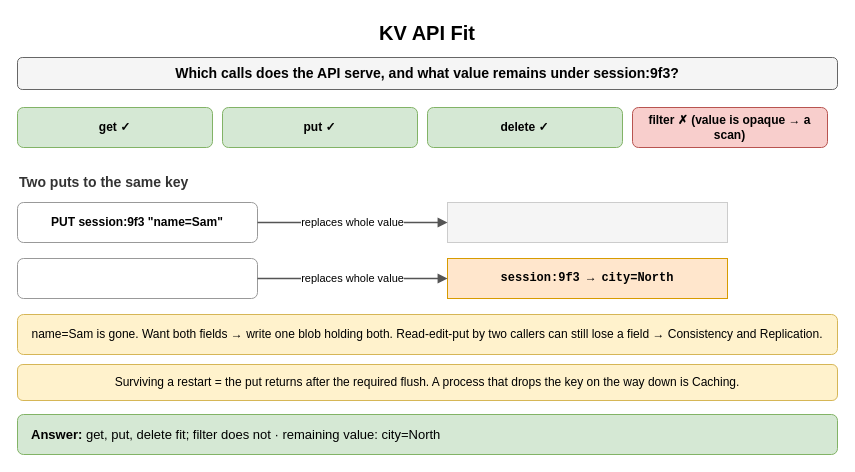
This 855x472 diagram has some shape labels left out. The shapes that lost their labels are listed below. From the top down, each one's centre as x and y in pixels, then its label:
[587,222]: session:9f3 → name=Sam
[137,278]: PUT session:9f3 "city=North"
